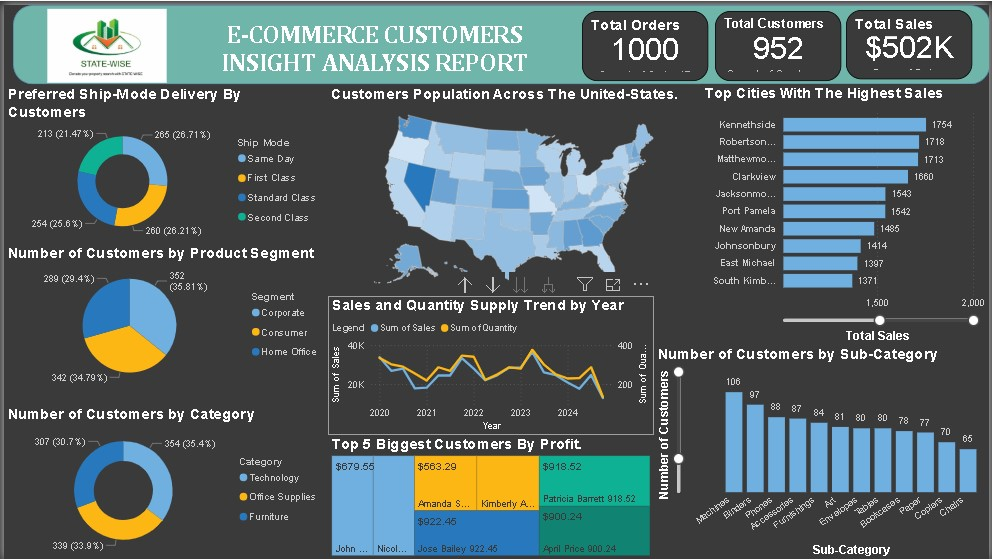

The page's visual inventory and layout, read from the dashboard file:
{"tool":"powerbi","page":{"name":"Page 1","canvas":[1280,720],"ordinal":0},"visuals":[{"type":"shape","box":[11.3,0,1269.4,103.2],"z":0},{"type":"donutChart","title":"Preferred Ship-Mode Delivery By Customers","fields":{"Category":["Orders Dataset.Ship Mode"],"Y":["Orders Dataset.Customer ID"]},"box":[0,103.8,420,206.2],"z":1000},{"type":"pieChart","title":"Number of Customers by Product Segment","fields":{"Category":["Orders Dataset.Segment"],"Y":["Orders Dataset.Customer ID"]},"box":[0,310,420,190],"z":2000},{"type":"clusteredBarChart","title":"Top Cities With The Highest Sales","fields":{"Category":["Orders Dataset.City"],"Y":["Orders Dataset.Sales"]},"box":[905.3,102.7,374.7,338.7],"z":3000},{"type":"donutChart","title":"Number of Customers by Category","fields":{"Category":["Orders Dataset.Category"],"Y":["Orders Dataset.Customer ID"]},"box":[0,520,420,200],"z":4000},{"type":"clusteredColumnChart","title":"Number of Customers by Sub-Category","fields":{"Category":["Orders Dataset.Sub-Category"],"Y":["Orders Dataset.Customer ID"]},"box":[843.6,441,435.9,279.5],"z":5000},{"type":"treemap","title":"Top 5 Biggest Customers By Profit.","fields":{"Values":["Orders Dataset.Profit"],"Details":["Orders Dataset.Customer Name"],"Group":["Orders Dataset.Profit"]},"box":[420.5,559,423.1,161.5],"z":6000},{"type":"shapeMap","title":"Customers Population Across The United-States.","fields":{"Category":["Orders Dataset.State"],"Value":["Orders Dataset.Customer ID"]},"box":[420,104,485.3,274.7],"z":7000},{"type":"lineChart","title":"Sales and Quantity Supply Trend by Year","fields":{"Category":["Orders Dataset.Order Date.Variation.Date Hierarchy.Year","Orders Dataset.Order Date.Variation.Date Hierarchy.Quarter"],"Y":["Orders Dataset.Sales"],"Y2":["Orders Dataset.Quantity"]},"box":[420.5,378.2,423.1,180.8],"z":8000},{"type":"image","box":[39.7,0,187.2,106.4],"z":8001},{"type":"textbox","box":[226.9,14.1,507.7,84.6],"z":8002},{"type":"card","title":"Total Sales","fields":{"Values":["Orders Dataset.Sales"]},"box":[1096.2,11.5,164.1,91],"z":8003},{"type":"card","title":"Total Orders","fields":{"Values":["Orders Dataset.Order ID"]},"box":[750,7.7,164.1,91],"z":8004},{"type":"card","title":"Total Customers","fields":{"Values":["Orders Dataset.Customer ID"]},"box":[923.1,7.7,164.1,91],"z":8005}]}

Visuals, with their boxes in screenshot pixels (x1, y1, x2, y2), scaled from the page's 1280x720 canvas onto the 992x559 screenshot:
shape: l=9, t=0, r=991, b=80
"Preferred Ship-Mode Delivery By Customers" donutChart: l=0, t=81, r=326, b=241
"Number of Customers by Product Segment" pieChart: l=0, t=241, r=326, b=388
"Top Cities With The Highest Sales" clusteredBarChart: l=702, t=80, r=991, b=343
"Number of Customers by Category" donutChart: l=0, t=404, r=326, b=558
"Number of Customers by Sub-Category" clusteredColumnChart: l=654, t=342, r=991, b=558
"Top 5 Biggest Customers By Profit." treemap: l=326, t=434, r=654, b=558
"Customers Population Across The United-States." shapeMap: l=326, t=81, r=702, b=294
"Sales and Quantity Supply Trend by Year" lineChart: l=326, t=294, r=654, b=434
image: l=31, t=0, r=176, b=83
textbox: l=176, t=11, r=569, b=77
"Total Sales" card: l=850, t=9, r=977, b=80
"Total Orders" card: l=581, t=6, r=708, b=77
"Total Customers" card: l=715, t=6, r=843, b=77
